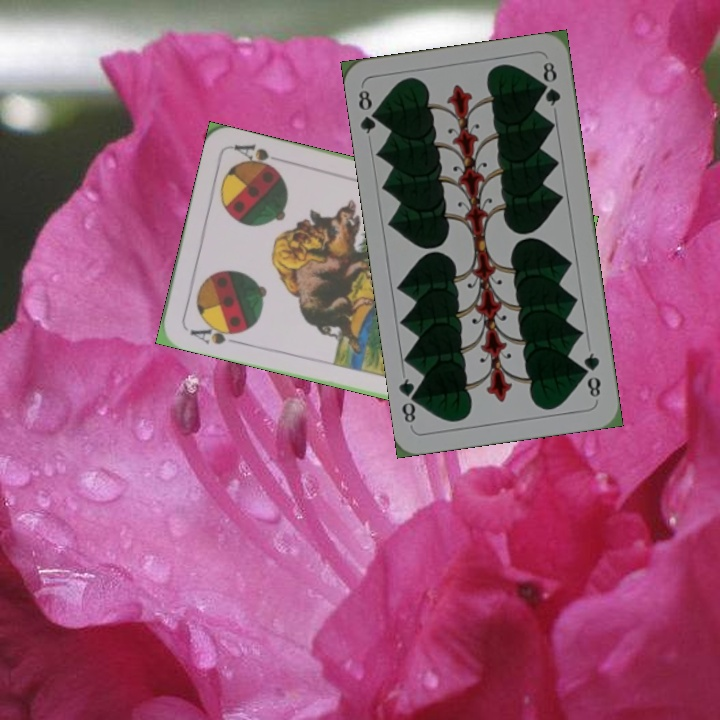G8: (354, 86, 384, 137), (579, 349, 604, 403)
SA: (186, 319, 244, 347)
